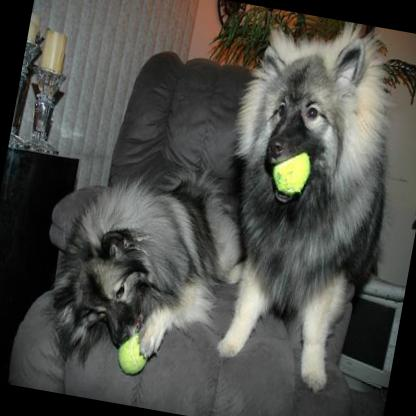keeshond: (191, 5, 416, 396), (34, 144, 254, 388)
